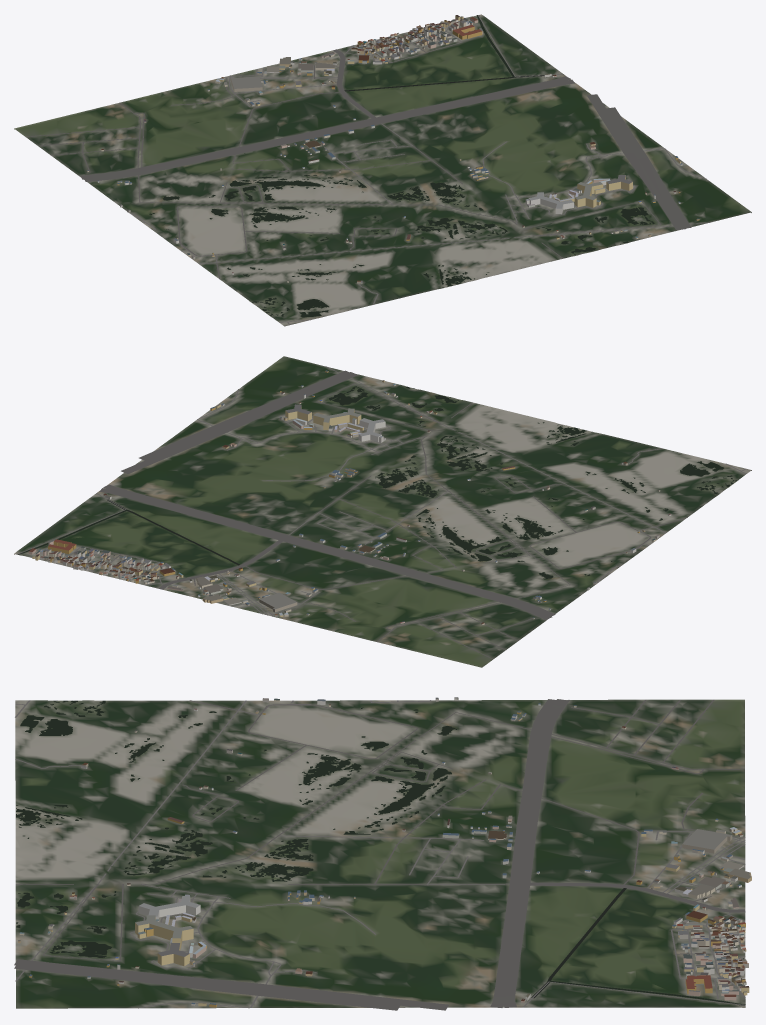
3 renders of one model, top to bottom at view 1: azimuth 30°, elevation 25°; view 2: azimuth 150°, elevation 25°; view 3: azimuth 270°, elevation 25°, orthographic. The views are drawn at different scales.
Visible parts, largest first — view 1: ground, roads, buildings, water; view 2: ground, roads, buildings, water; view 3: ground, roads, buildings, water.
Part boxes in pixels (x1,y1,x2,y2): ground: [14, 14, 751, 326]; roads: [25, 15, 710, 324]; buildings: [87, 15, 699, 283]; water: [149, 15, 654, 317]; ground: [14, 356, 751, 667]; roads: [17, 366, 746, 659]; buildings: [28, 370, 671, 624]; water: [18, 386, 736, 579]; ground: [15, 699, 745, 1008]; roads: [14, 699, 745, 1010]; buildings: [18, 697, 751, 1007]; water: [16, 700, 745, 1005].
Size of the model in its own units: 1418 by 26.77 by 1418.
